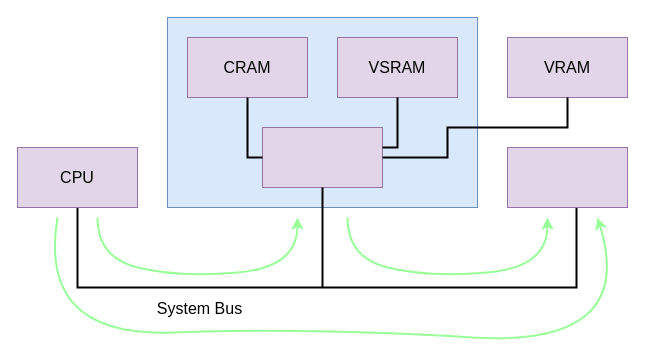
Some shapes in this 645 by 357 pixel diagram are drawn without their labels. Each missing label, with the centre of its shape:
"Main RAM" belongs at (x=567, y=177).
"VDP Interface Logic" belongs at (x=322, y=157).
